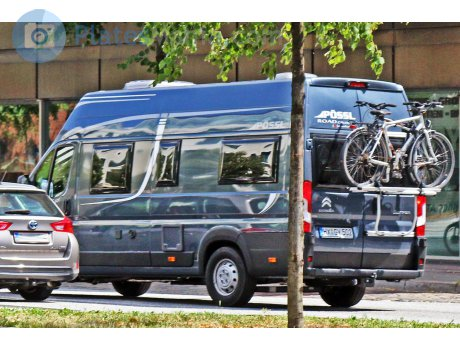License Plates: (321, 225, 347, 234)
